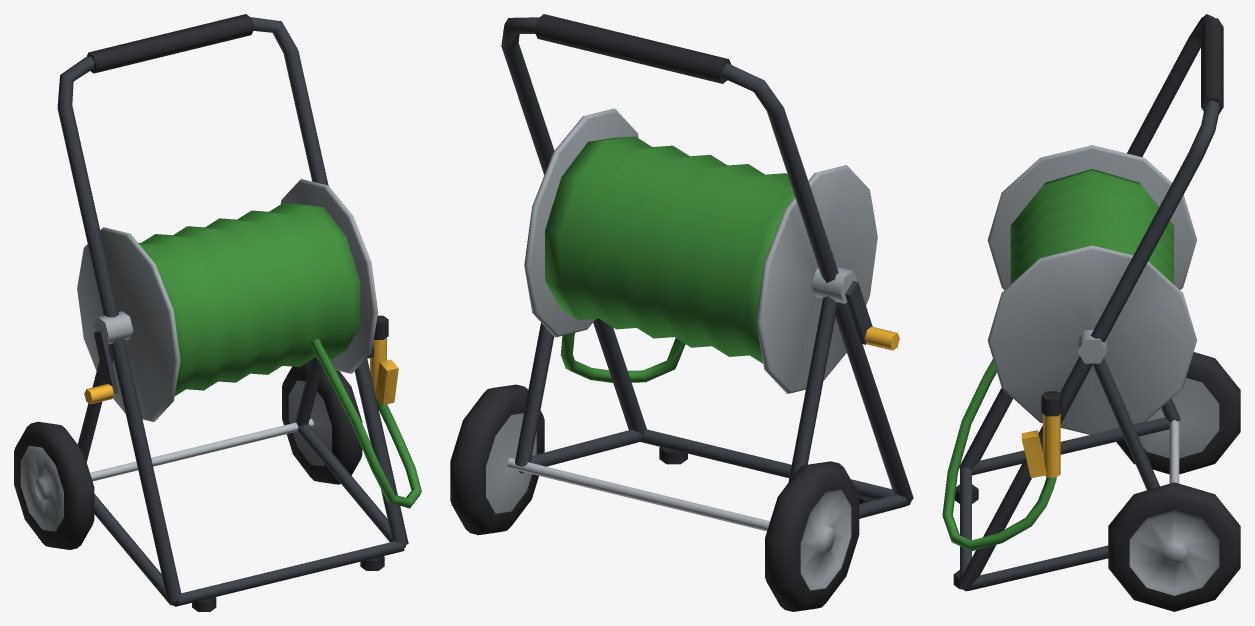
Rendered from hoseReel.far.glb.
3 renders of one model, left to right at view 1: azimuth 30°, elevation 25°; view 2: azimuth 150°, elevation 25°; view 3: azimuth 270°, elevation 25°, orthographic. The views are drawn at different scales.
Parts seen in each view (by area): view 1: hoseReel; view 2: hoseReel; view 3: hoseReel.
Boxes of the visible parts, x1,y1,x2,y2 form: hoseReel: (14,14,421,611); hoseReel: (450,14,913,611); hoseReel: (942,14,1240,611).
Bounding box in the file's own units: 0.5715 × 0.8456 × 0.4721.
